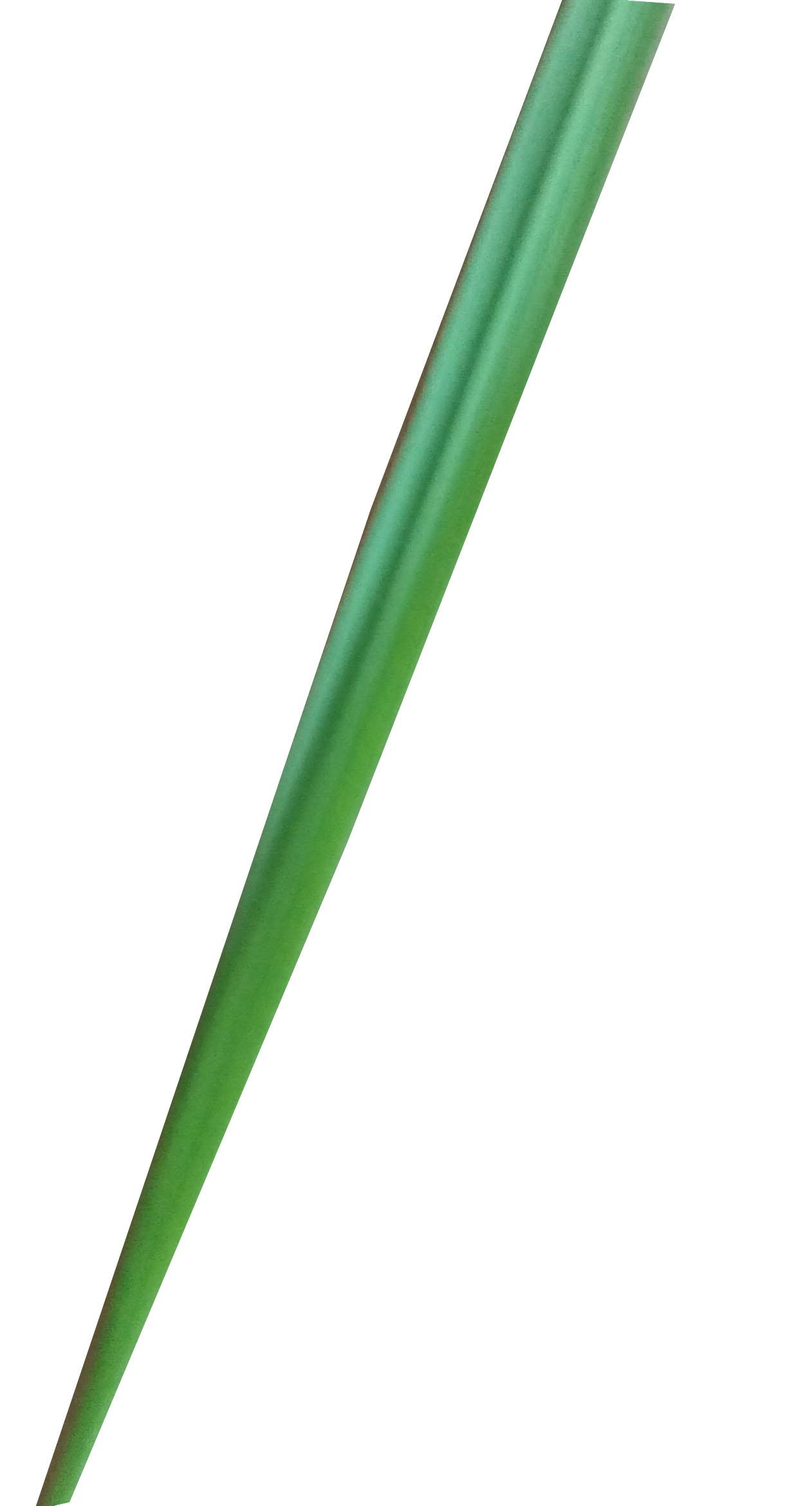Healthy: (35, 0, 681, 1506)
